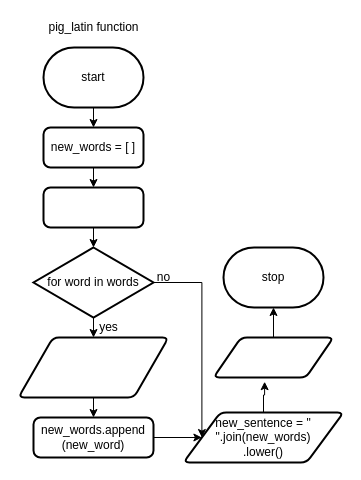
Some shapes in this 361 by 480 pixel diagram are drawn without their labels. The shapes that lost their labels are listed below. From the top down, each one's centre as x and y in pixels, then its label:
[93,207]: words = sentence.split( )
[93,367]: new_word = "{0}{1}ay".format(word[1:], word[0])
[273,357]: return new_sentence
